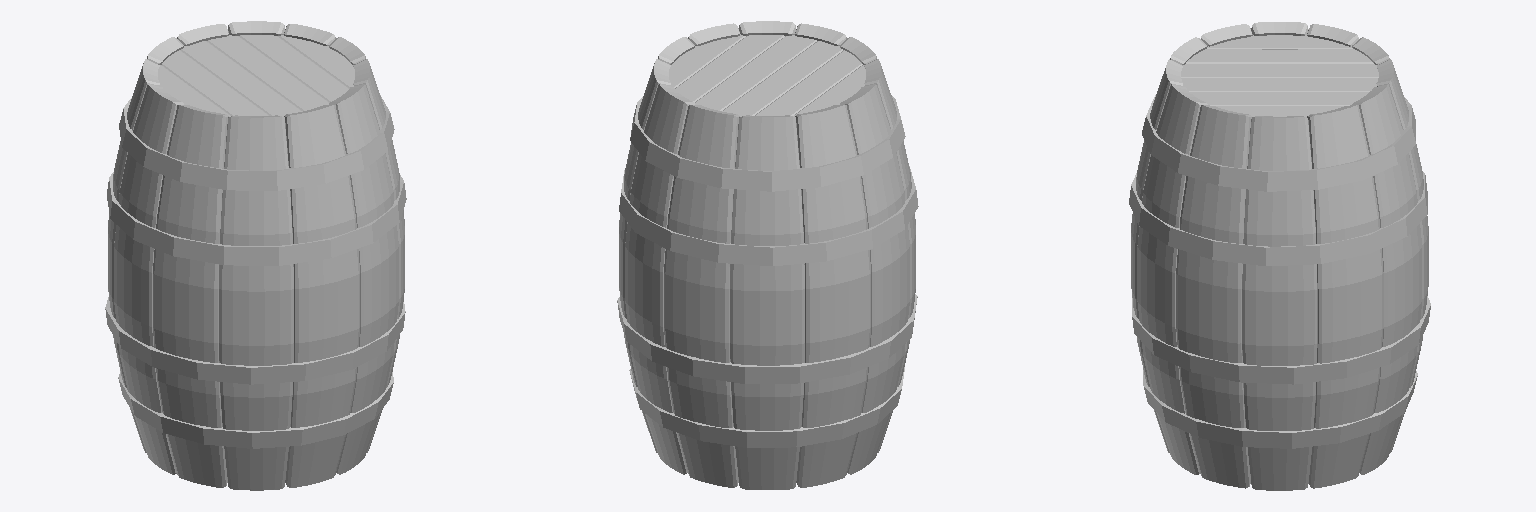
File: barrel.obj
The picture shows the model from 3 angles: view 1: azimuth 30°, elevation 25°; view 2: azimuth 150°, elevation 25°; view 3: azimuth 270°, elevation 25°; orthographic projection.
Parts seen in each view (by area): view 1: polySurface52; view 2: polySurface52; view 3: polySurface52.
Boxes of the visible parts, x1=… form: polySurface52: x1=105, y1=21, x2=406, y2=490; polySurface52: x1=617, y1=21, x2=918, y2=489; polySurface52: x1=1129, y1=22, x2=1430, y2=490.
Bounding box in the file's own units: 4.84 × 6.63 × 4.87.